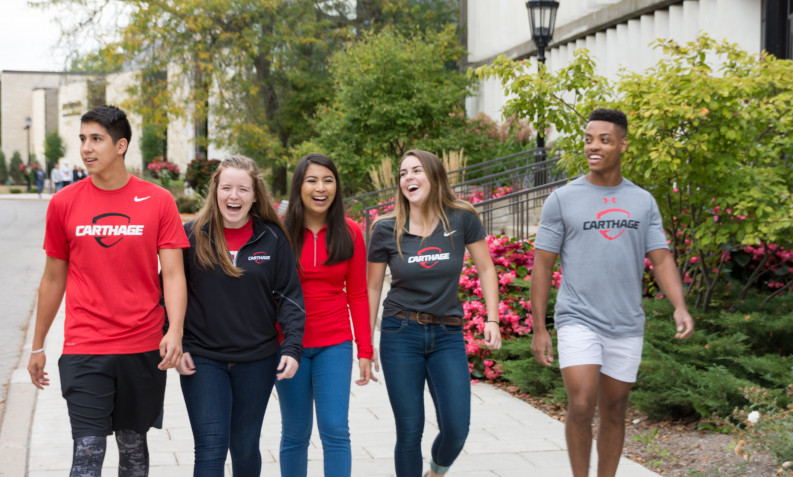Person: (528, 107, 697, 477), (26, 104, 190, 476), (159, 153, 304, 477), (365, 149, 503, 476), (274, 153, 375, 477)
